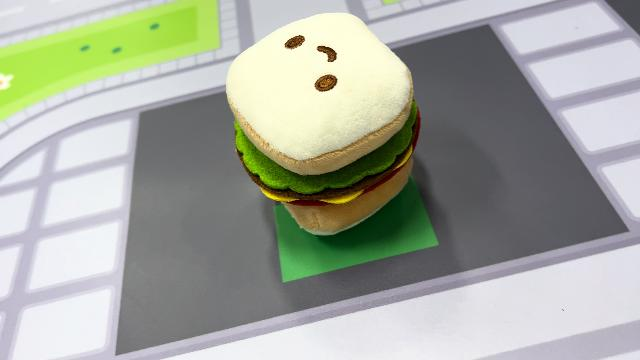sandwich: (222, 11, 423, 237)
